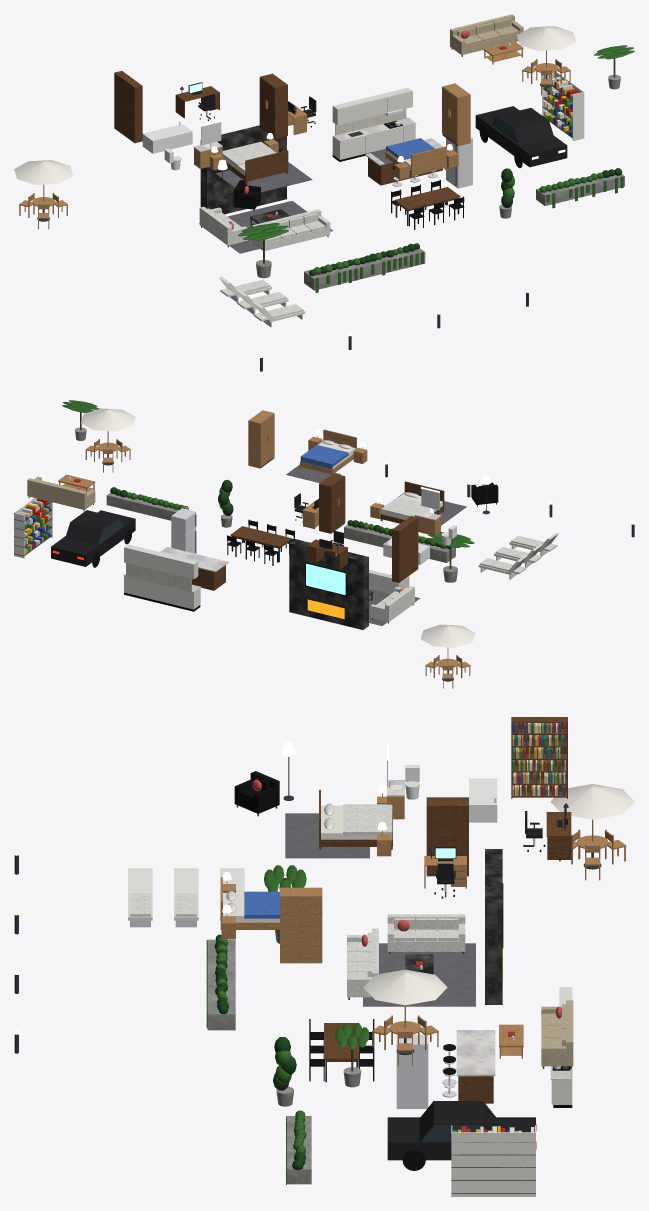
The model's file is i_villa_luxury_modern.gltf.
The picture shows the model from 3 angles, top to bottom: view 1: azimuth 30°, elevation 25°; view 2: azimuth 150°, elevation 25°; view 3: azimuth 270°, elevation 25°; orthographic projection. The views are drawn at different scales.
Parts seen in each view (by area): view 1: I_villa_luxury_modern; view 2: I_villa_luxury_modern; view 3: I_villa_luxury_modern.
Part boxes in pixels (bbox=[...]): I_villa_luxury_modern: bbox=[14, 14, 634, 371]; I_villa_luxury_modern: bbox=[14, 400, 634, 688]; I_villa_luxury_modern: bbox=[14, 717, 634, 1196].
Bounding box in the file's own units: 23.87 × 6.18 × 17.58.
43 materials, 13 textured.
